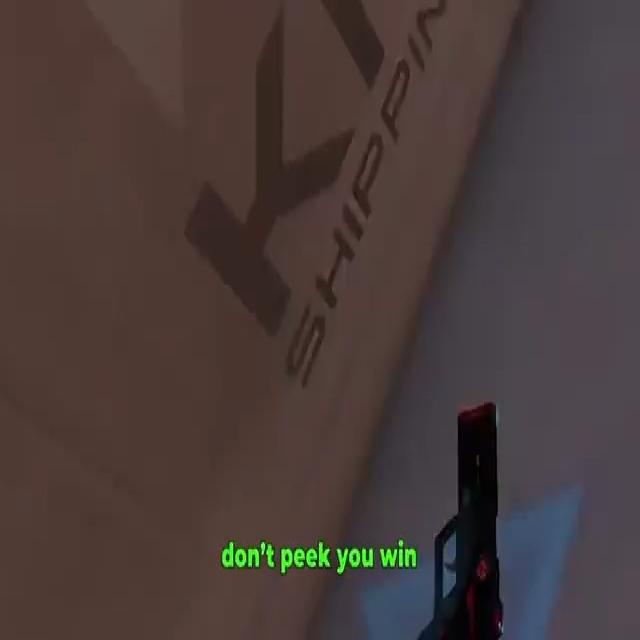gun: (420, 386, 510, 640)
